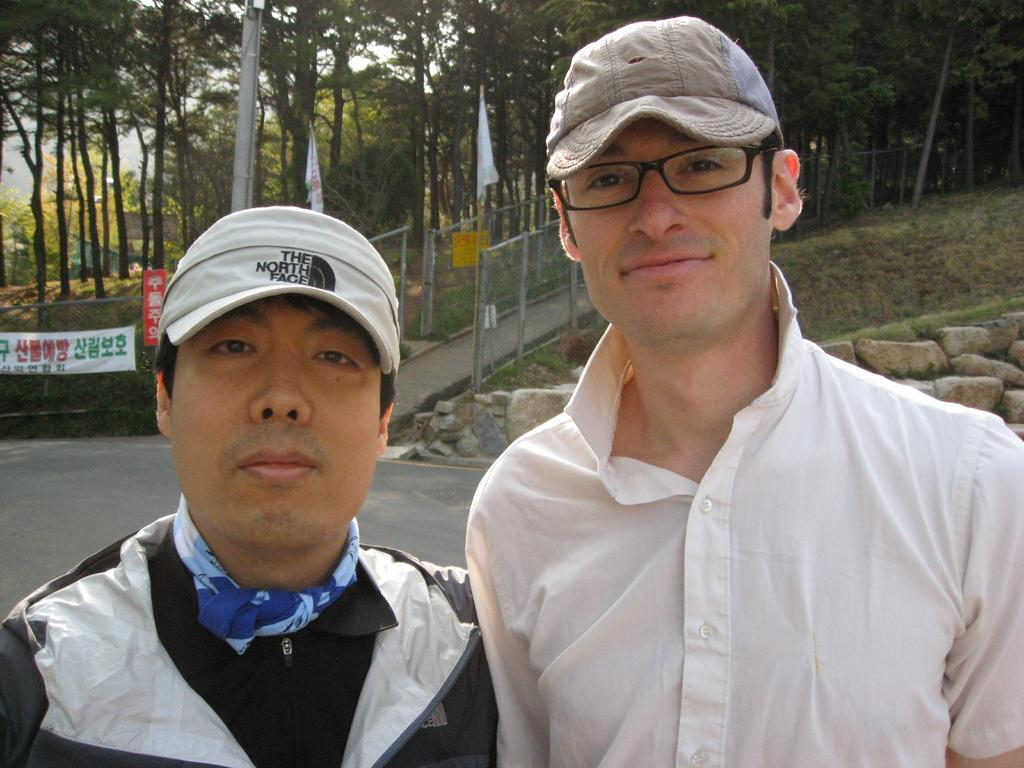Hat: (161, 198, 402, 382), (546, 13, 783, 178)
